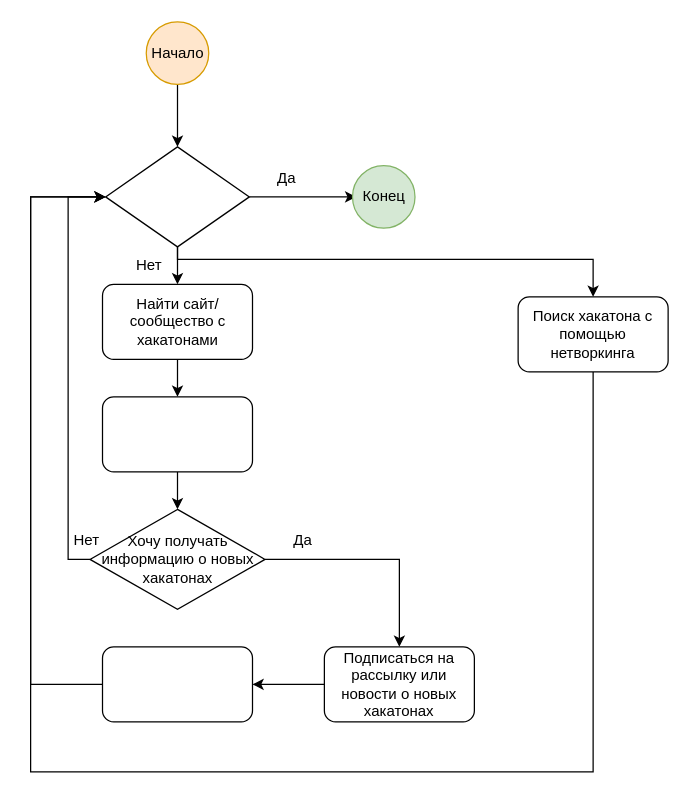
Image size: 690x804. Some labels were removed from this diagram. The shapes that lost their labels are listed below. From the top down, each one's centre as x and y in pixels, then its label:
At point (176, 196): "Найден хакатон".
At point (176, 434): "Прочитать информацию о предлагаемых хакатонах".
At point (176, 684): "Ознакомиться с информацией из рассылки".
